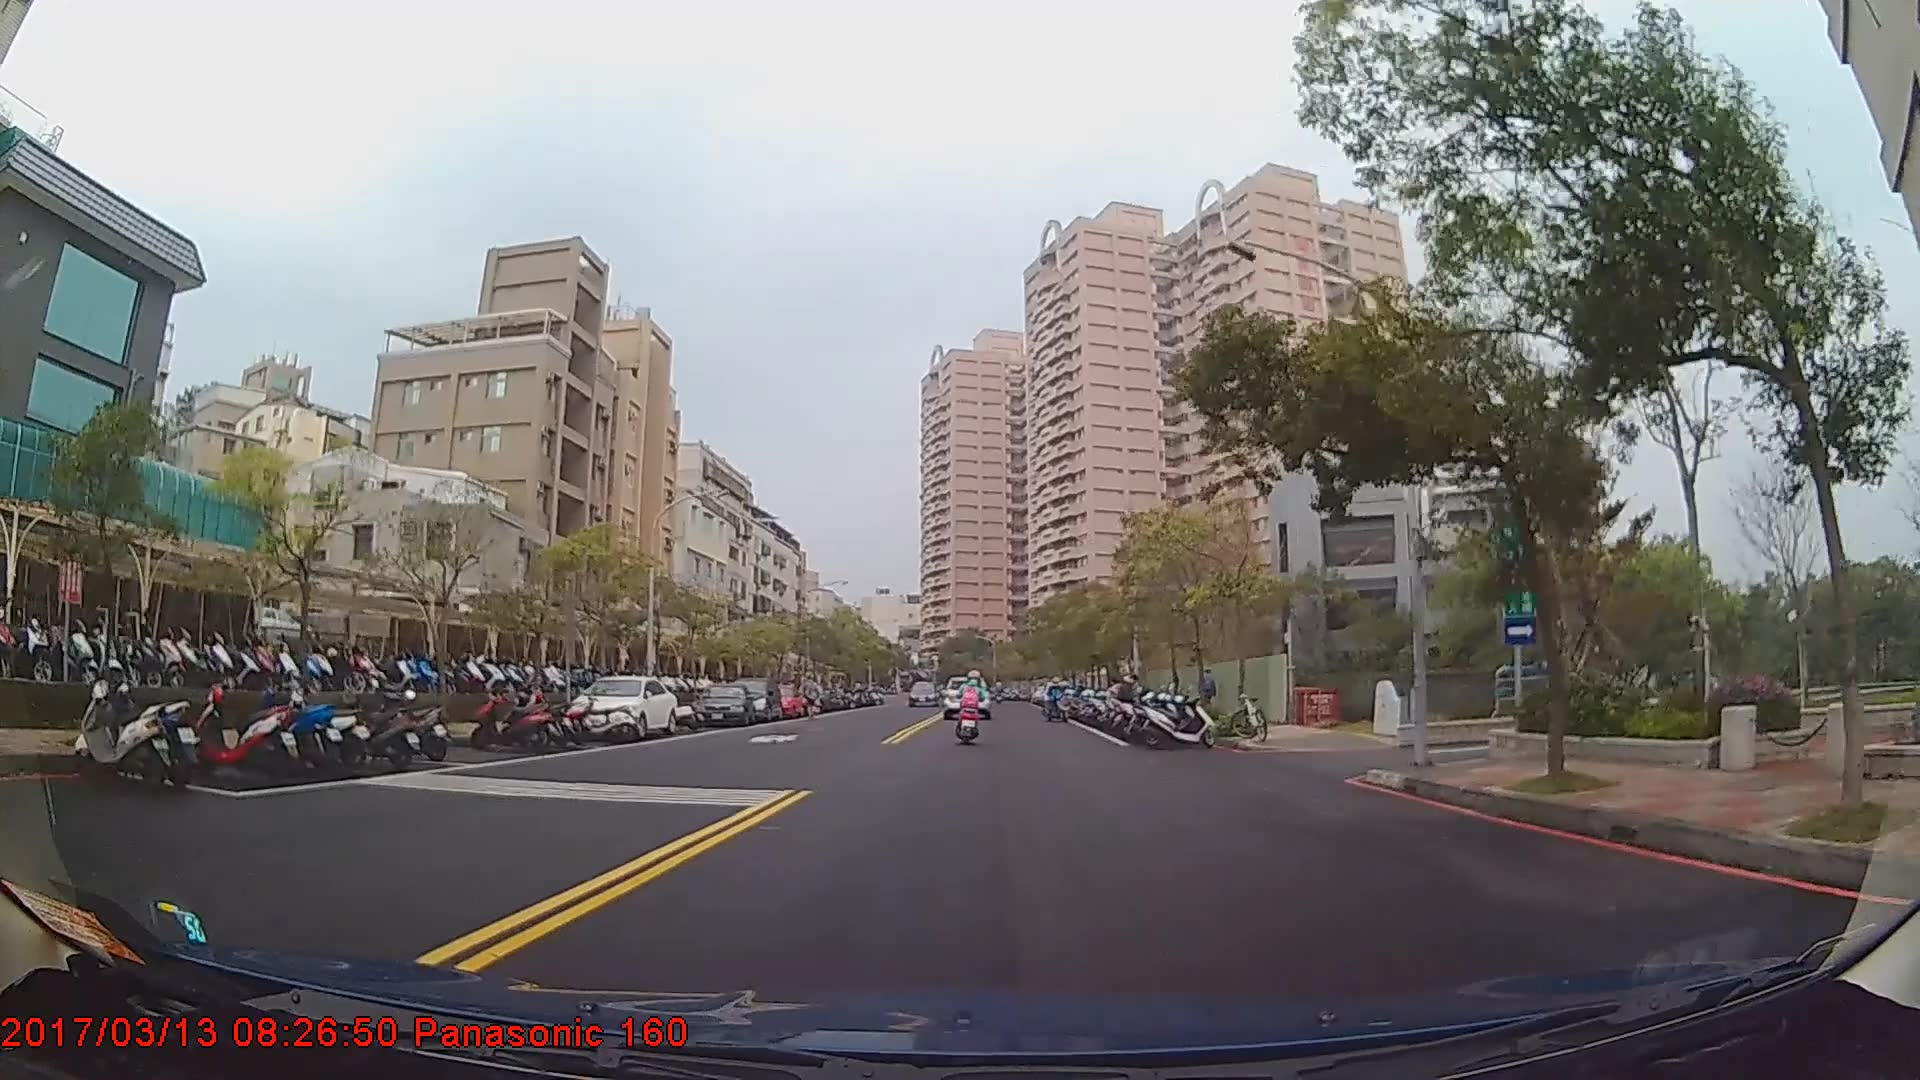pedestrian: (1197, 668, 1219, 723), (799, 674, 821, 720)
rider: (957, 675, 988, 747), (1044, 679, 1069, 722)
vehicle: (565, 676, 677, 741), (726, 673, 785, 721), (691, 683, 753, 727), (943, 674, 992, 721), (908, 679, 936, 705)
